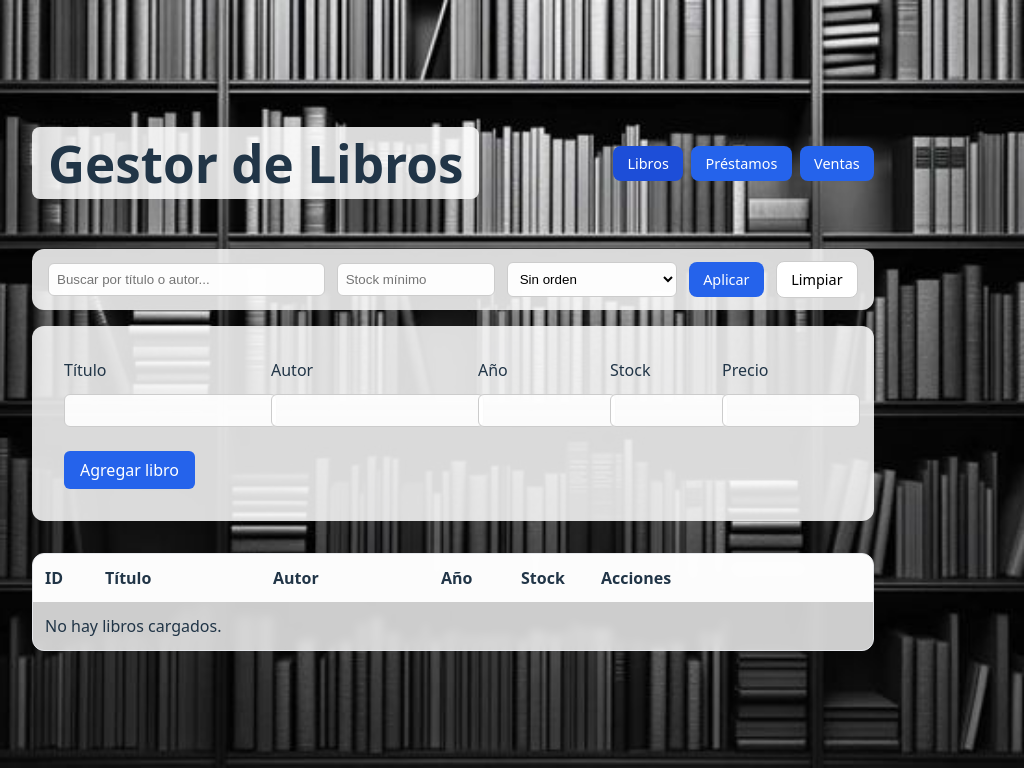
Scenario: App filters and views › cambia a Ventas y carga lista
The width and height of the screenshot is (1024, 768).
Expected: the text "No hay libros cargados." is shown, x1=45 y1=616 x2=222 y2=638
What coordinates should you click on to do the following:
click the button "Ventas"
I would click on:
 (837, 163)
Its box is x1=800 y1=146 x2=874 y2=180.
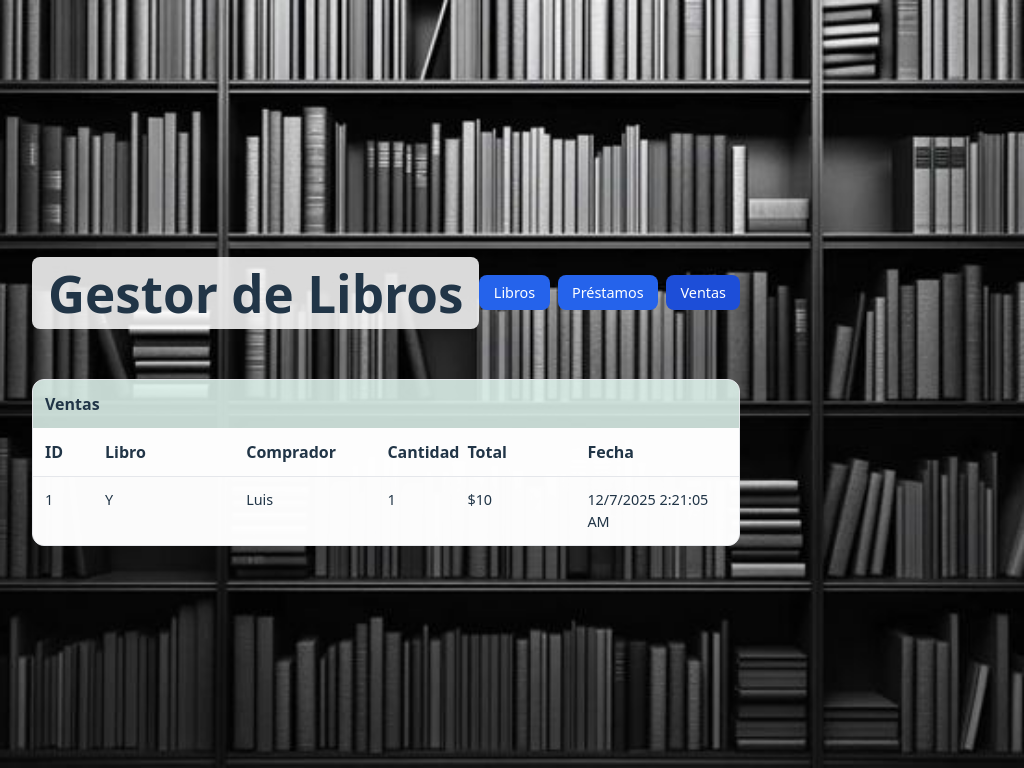
Expected: the text "Y" is shown, x1=105 y1=490 x2=113 y2=509
